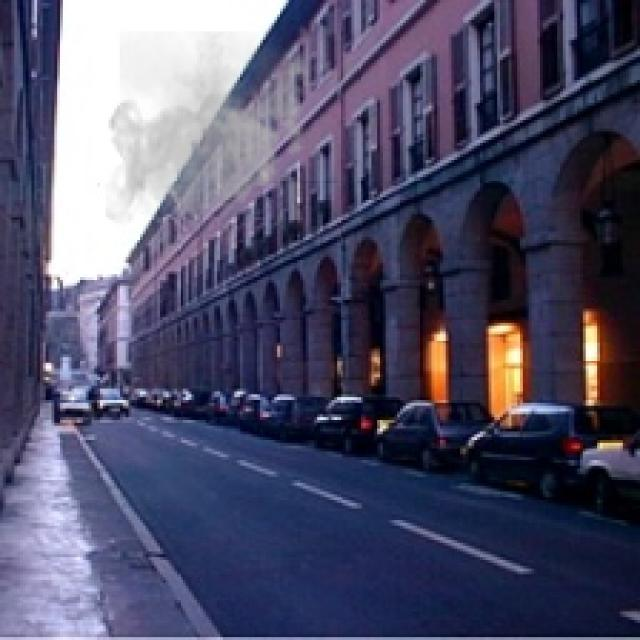smoke: (106, 32, 317, 232)
